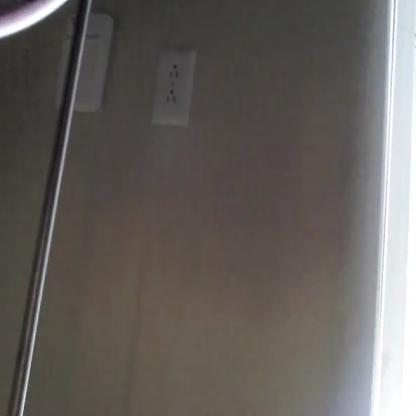OUTLET: (154, 53, 192, 128)
